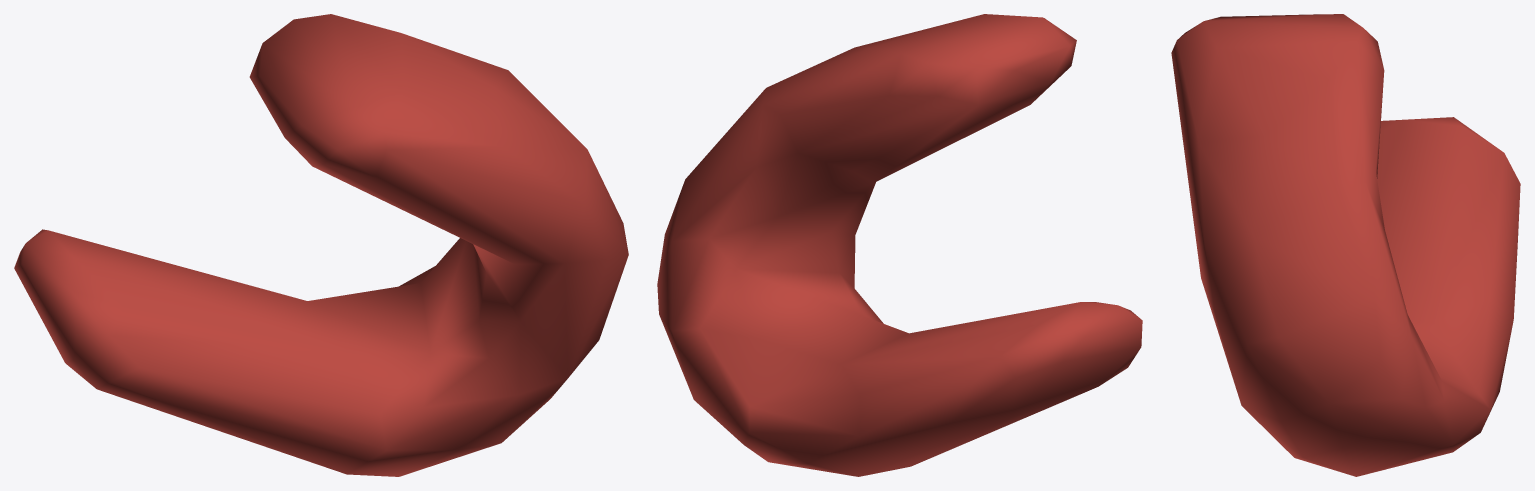
Rendered from musculos-trochlea-of-superior-oblique-muscle-l.glb.
3 renders of one model, left to right at view 1: azimuth 30°, elevation 25°; view 2: azimuth 150°, elevation 25°; view 3: azimuth 270°, elevation 25°, orthographic. The views are drawn at different scales.
Parts seen in each view (by area): view 1: Trochlea of superior oblique muscle.l; view 2: Trochlea of superior oblique muscle.l; view 3: Trochlea of superior oblique muscle.l.
Boxes of the visible parts, box(x1,y1,x2,y2) form: Trochlea of superior oblique muscle.l: box(14, 14, 628, 476); Trochlea of superior oblique muscle.l: box(657, 14, 1142, 476); Trochlea of superior oblique muscle.l: box(1171, 14, 1520, 476).
Size of the model in its own units: 0.00422 by 0.00361 by 0.00294.
